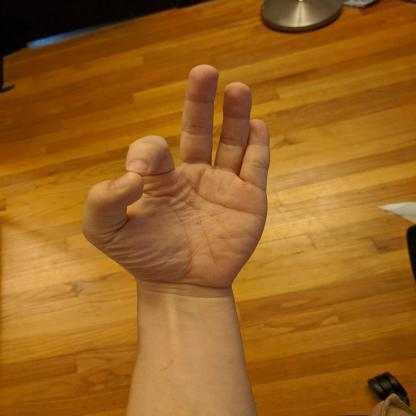F: (78, 60, 274, 292)
